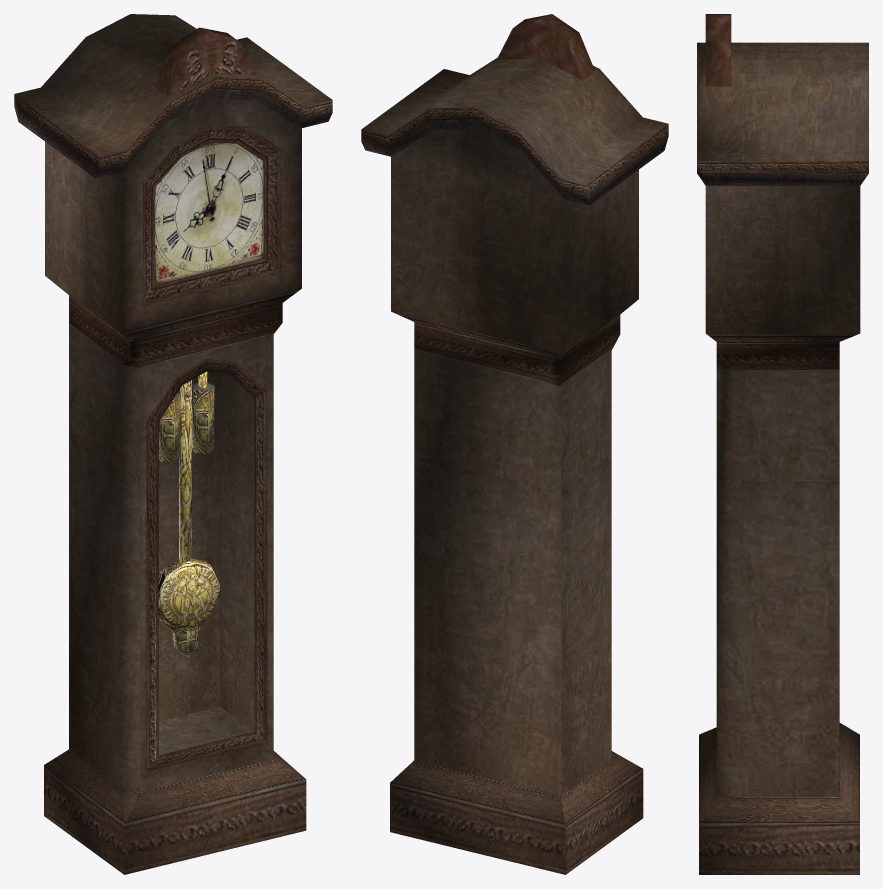
The model's file is GS_VOB_CLOCK_POOR_01_KOZA.glb.
The picture shows the model from 3 angles, left to right: view 1: azimuth 30°, elevation 25°; view 2: azimuth 150°, elevation 25°; view 3: azimuth 270°, elevation 25°; orthographic projection. The views are drawn at different scales.
Parts seen in each view (by area): view 1: Mesh; view 2: Mesh; view 3: Mesh.
Part boxes in pixels (box(x1,y1,x2,y2)): Mesh: box(14, 14, 332, 874); Mesh: box(361, 14, 668, 874); Mesh: box(697, 14, 868, 874).
Size of the model in its own units: 0.7367 by 2.46 by 0.4704.
4 materials, 4 textured.
